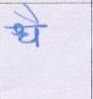o_matra: (31, 10, 42, 47)
